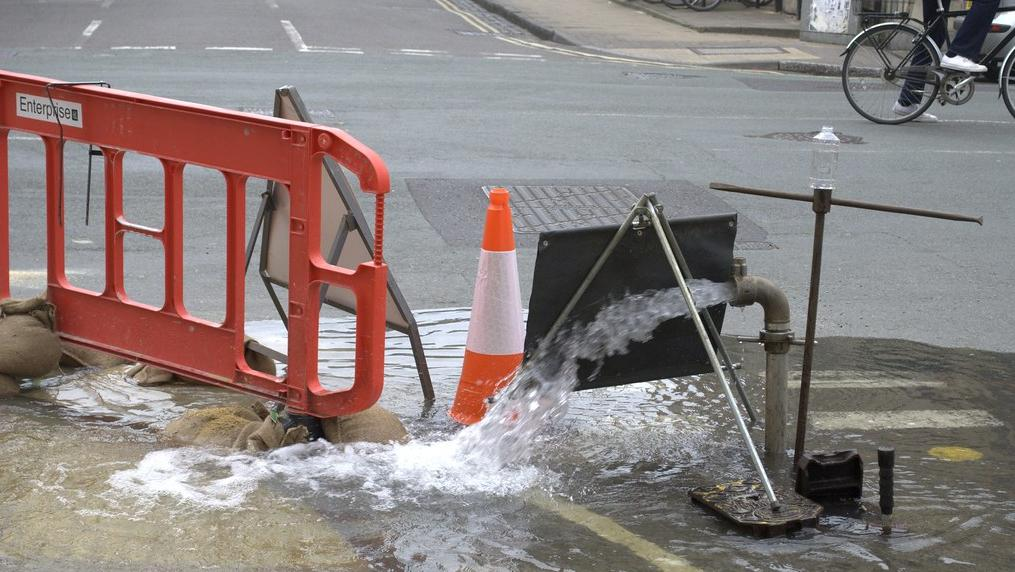water_leak: (388, 273, 737, 509)
